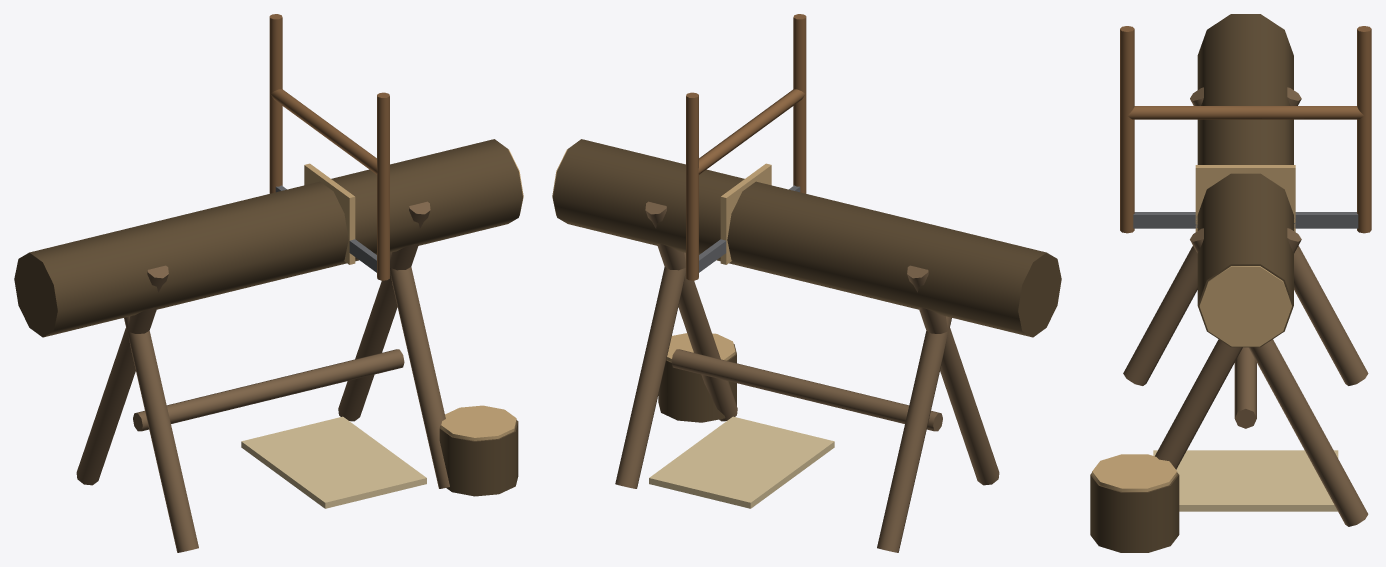
The model's file is kozly.glb.
3 renders of one model, left to right at view 1: azimuth 30°, elevation 25°; view 2: azimuth 150°, elevation 25°; view 3: azimuth 270°, elevation 25°, orthographic. The views are drawn at different scales.
Visible parts, largest first — view 1: log, leg (×4), dust, rail, saw_frame (×2), round, round_top, saw_bar, cut; view 2: log, leg (×4), dust, rail, saw_frame (×2), round, saw_bar, cut, round_top; view 3: log, leg (×4), dust, saw_frame (×2), log_end, round, saw_bar, round_top, blade, cut, rail.
Part boxes in pixels (x1=…): log: x1=14, y1=139, x2=522, y2=337; leg (×4): x1=76, y1=201, x2=449, y2=552; dust: x1=241, y1=416, x2=426, y2=508; rail: x1=133, y1=349, x2=404, y2=431; saw_frame (×2): x1=269, y1=14, x2=389, y2=280; round: x1=439, y1=420, x2=518, y2=496; round_top: x1=441, y1=405, x2=516, y2=440; saw_bar: x1=270, y1=89, x2=377, y2=174; cut: x1=304, y1=163, x2=355, y2=264; log: x1=553, y1=139, x2=1061, y2=337; leg (×4): x1=615, y1=201, x2=999, y2=552; dust: x1=649, y1=416, x2=834, y2=508; rail: x1=671, y1=349, x2=942, y2=431; saw_frame (×2): x1=686, y1=14, x2=806, y2=280; round: x1=658, y1=344, x2=736, y2=422; saw_bar: x1=698, y1=89, x2=805, y2=174; cut: x1=720, y1=163, x2=771, y2=264; round_top: x1=666, y1=333, x2=735, y2=361; log: x1=1197, y1=14, x2=1293, y2=347; leg (×4): x1=1123, y1=87, x2=1368, y2=526; dust: x1=1153, y1=450, x2=1338, y2=511; saw_frame (×2): x1=1120, y1=26, x2=1371, y2=233; log_end: x1=1199, y1=266, x2=1291, y2=346; round: x1=1090, y1=473, x2=1179, y2=552; saw_bar: x1=1127, y1=106, x2=1363, y2=119; round_top: x1=1092, y1=454, x2=1177, y2=491; blade: x1=1133, y1=212, x2=1358, y2=228; cut: x1=1195, y1=165, x2=1295, y2=231; rail: x1=1234, y1=347, x2=1256, y2=428.
Size of the model in its own units: 1.61 by 1.37 by 0.76.
